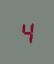four: (19, 19, 32, 44)
